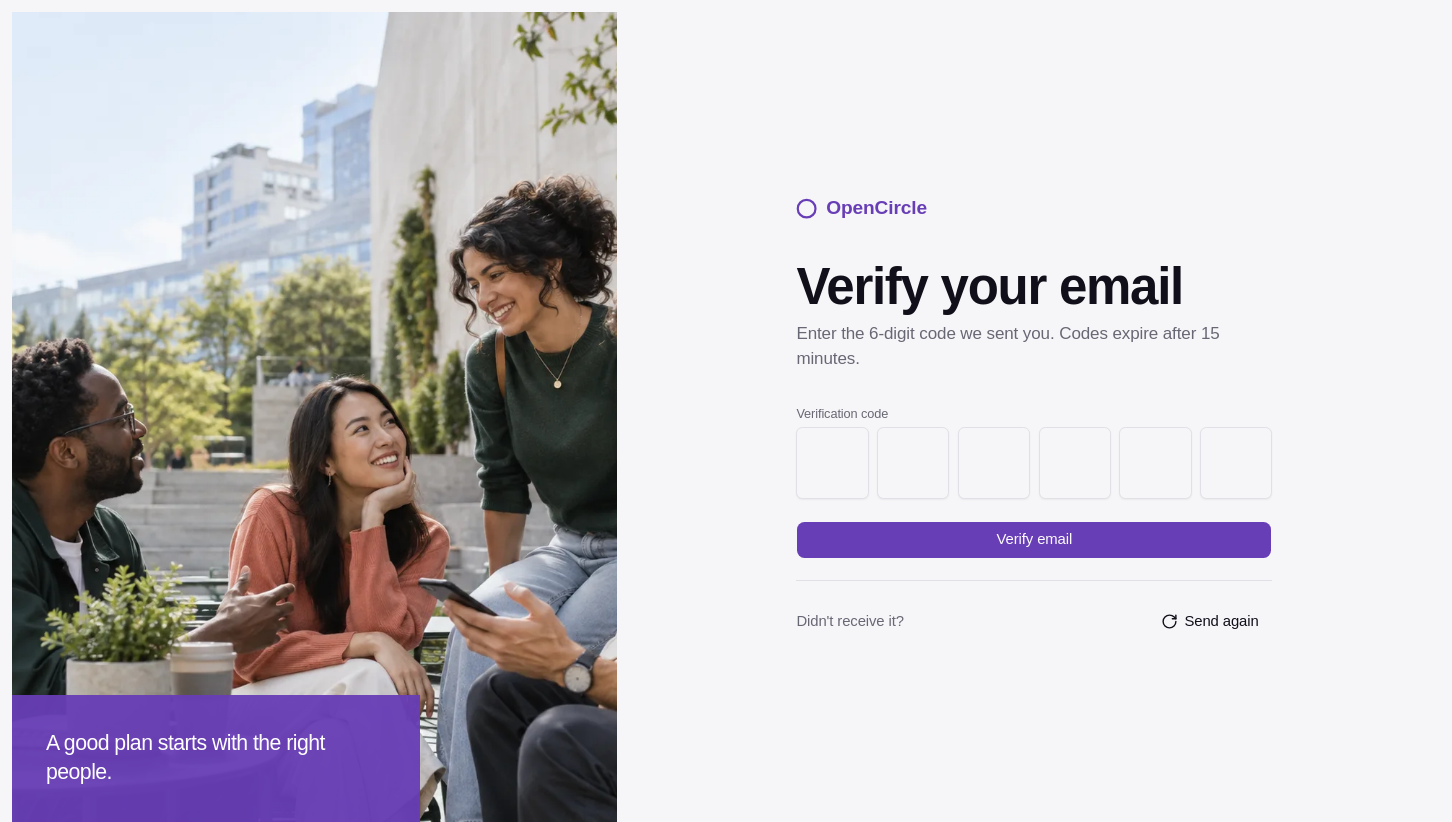
Scenario: VerifyEmailPage › resends to the signup email and starts a client-only cooldown
This screenshot has width=1452, height=822.
Click the button "Send again": (1210, 622) x1=1147 y1=602 x2=1272 y2=641
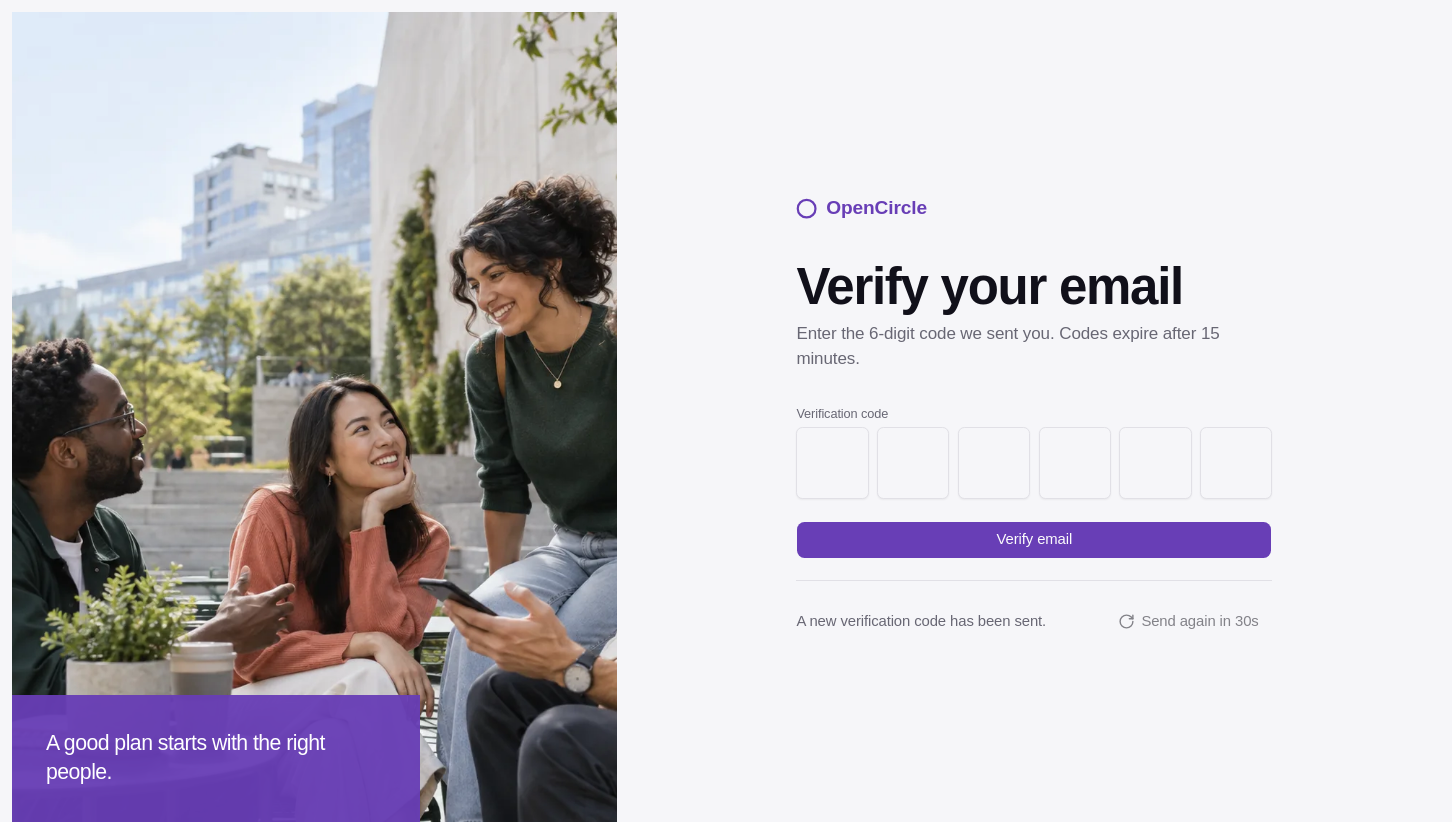
Expected: the text "A new verification code has been sent." is shown, x1=796 y1=611 x2=1046 y2=632
Expected: the button "Send again in 30s" is disabled, x1=1104 y1=602 x2=1272 y2=641
